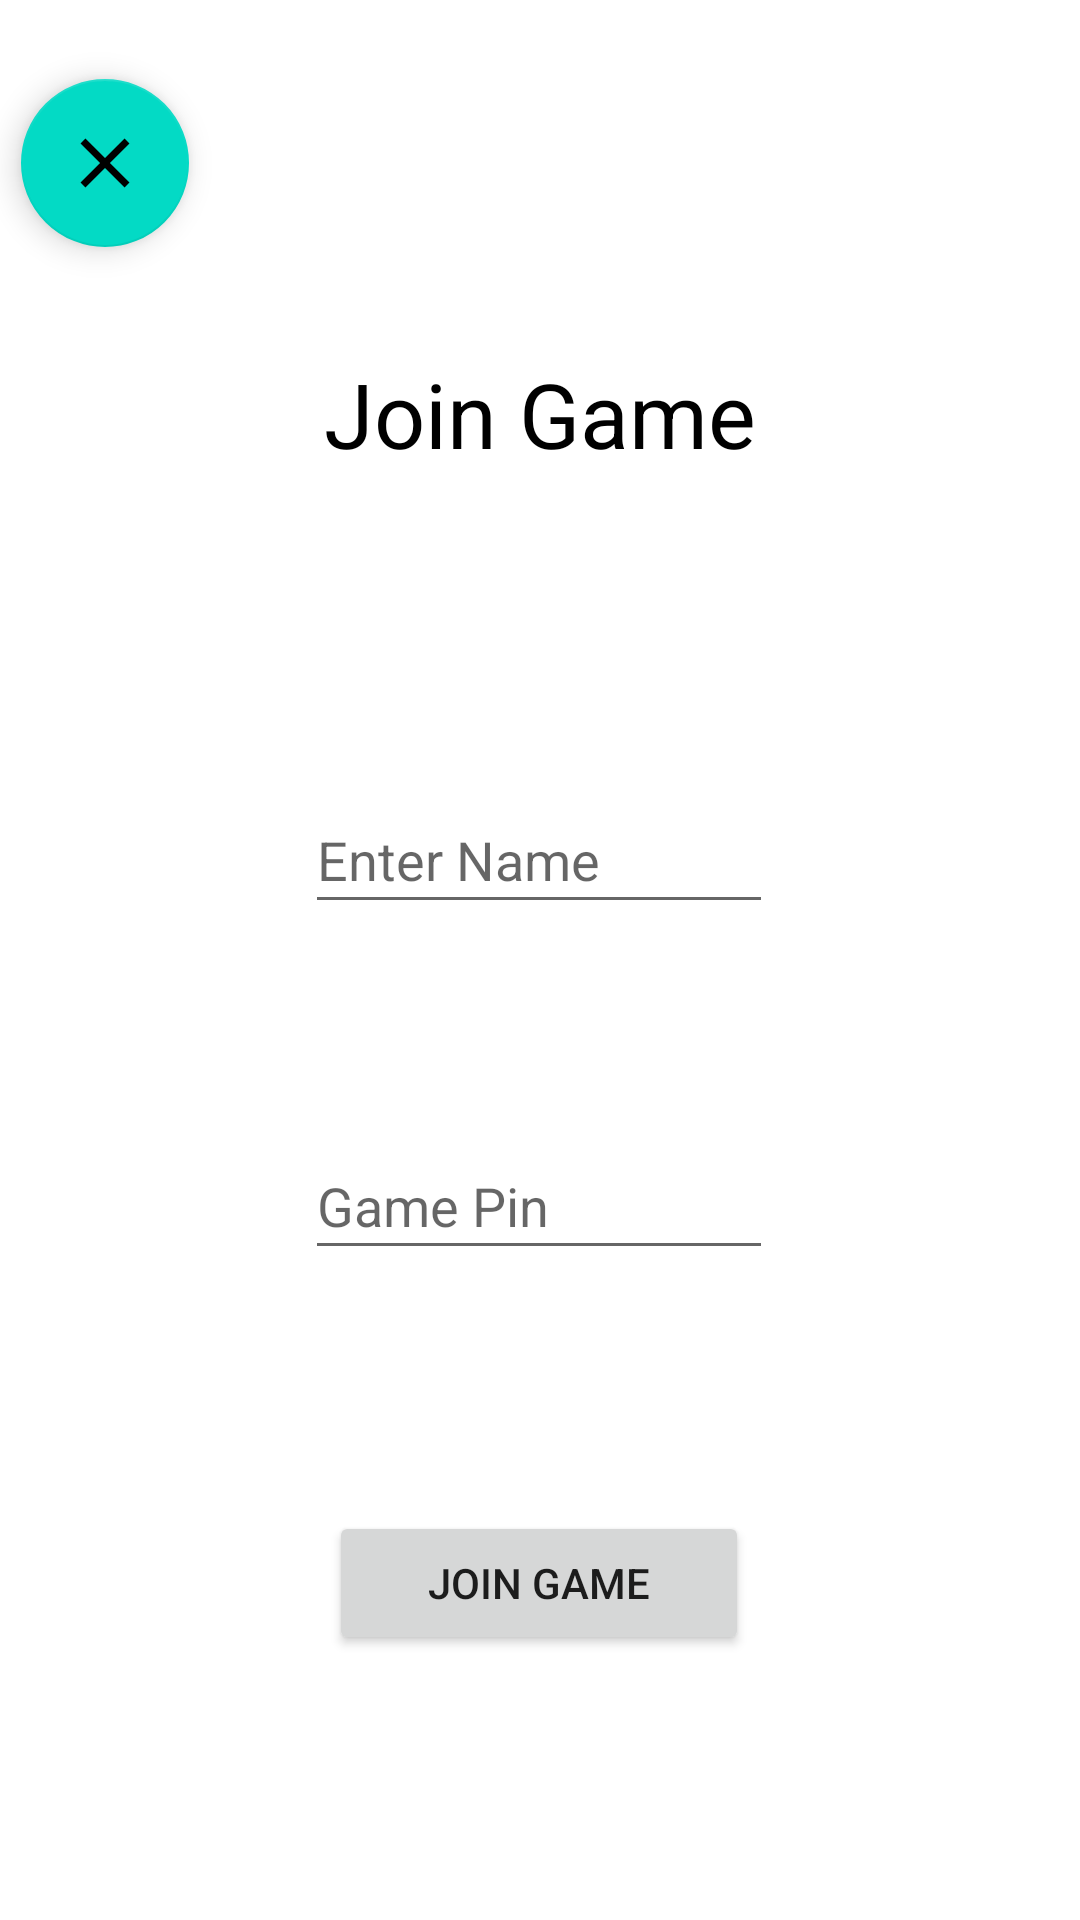

Screen size 1080px x 1920px. Icon name, then its center in pixels as point (x, y):
close: point (105, 163)
